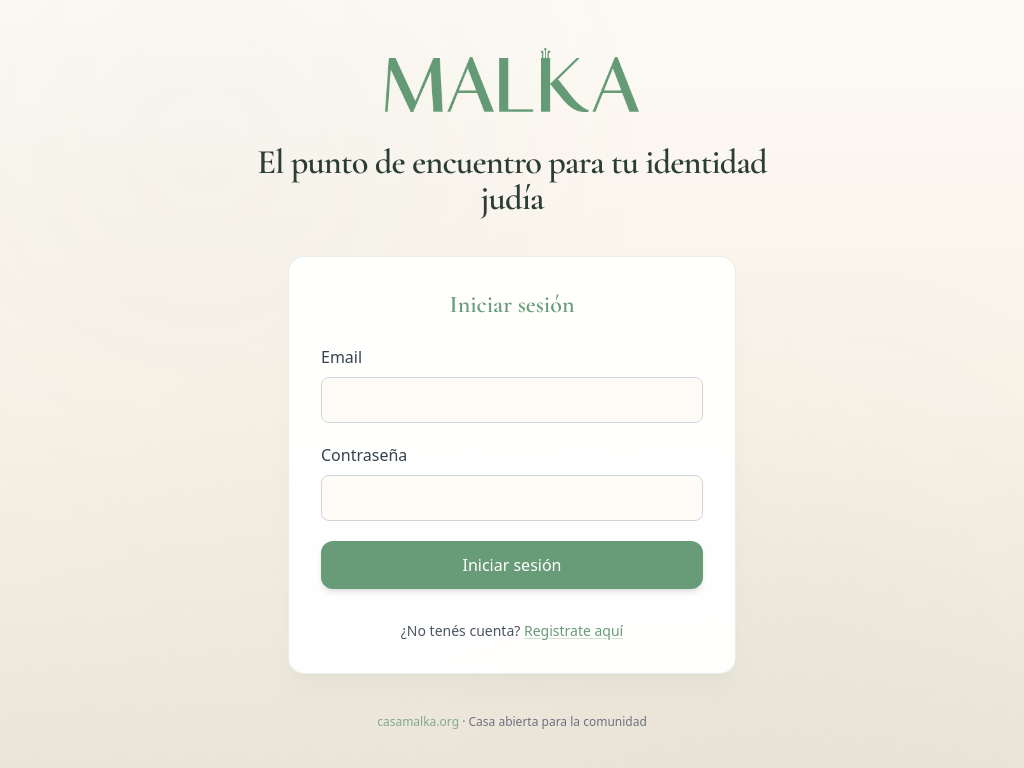
Scenario: Login › shows API error message on failure
Step 1. Type "x@y.com" into the field labelled "Email" → (512, 400), box x1=321 y1=377 x2=703 y2=423
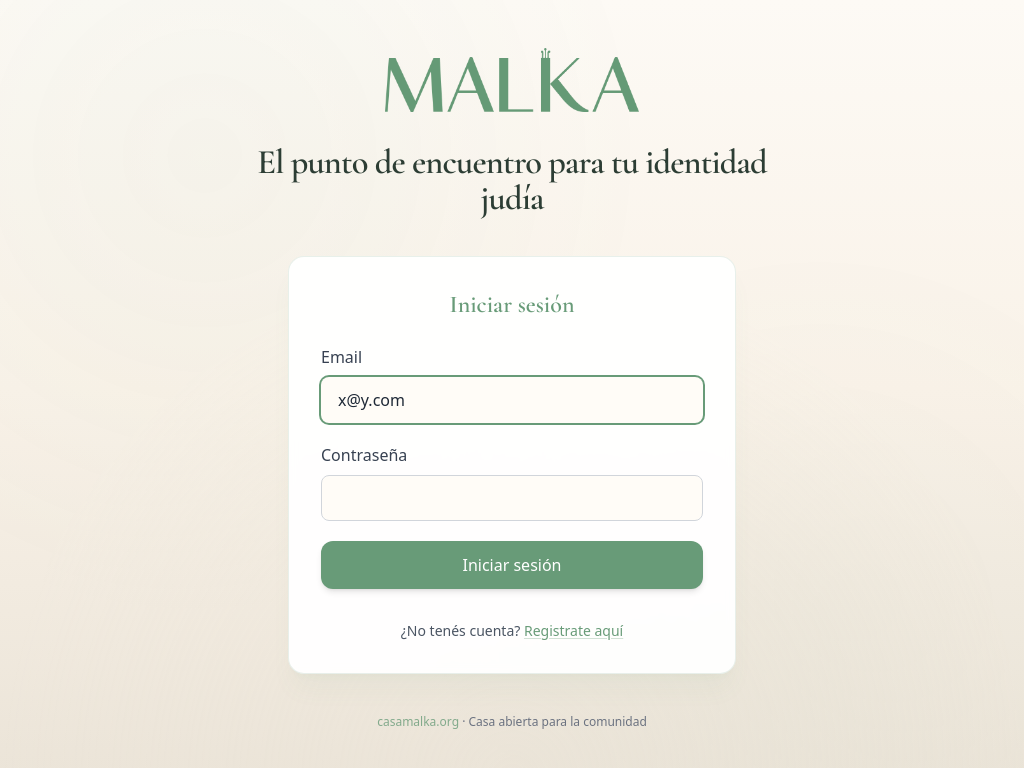
Step 2. Type "bad" into the password field labelled "Contraseña" → (512, 498), box x1=321 y1=475 x2=703 y2=521
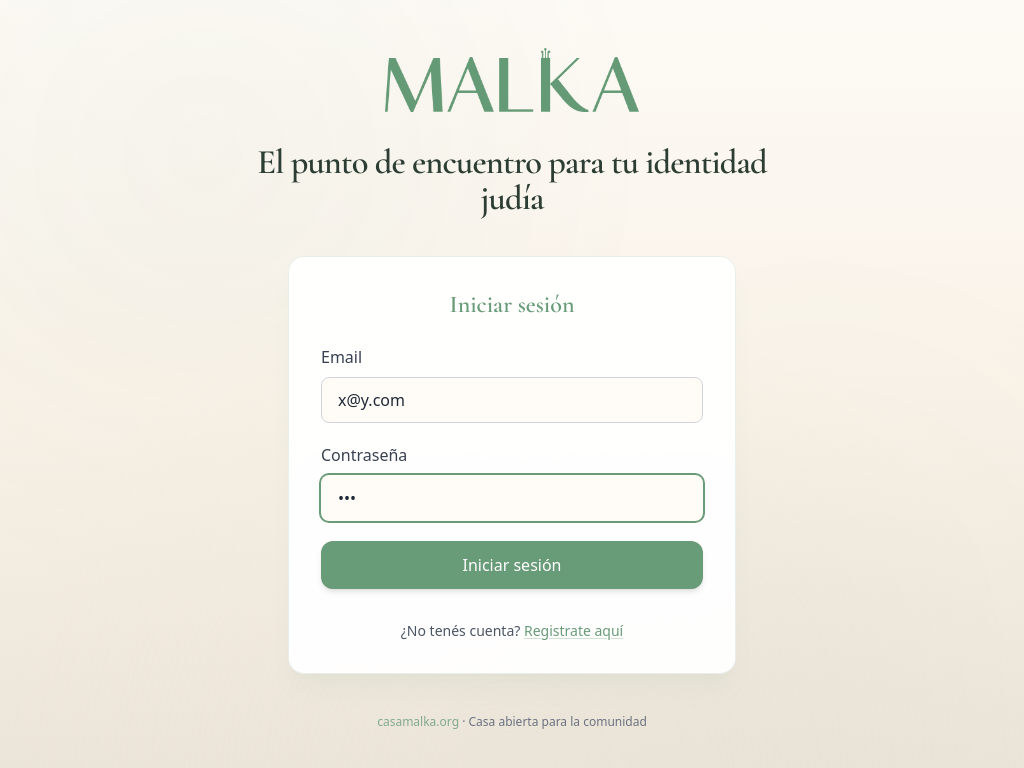
Step 3. Click the button "Iniciar sesión" → (512, 565), box x1=321 y1=541 x2=703 y2=589
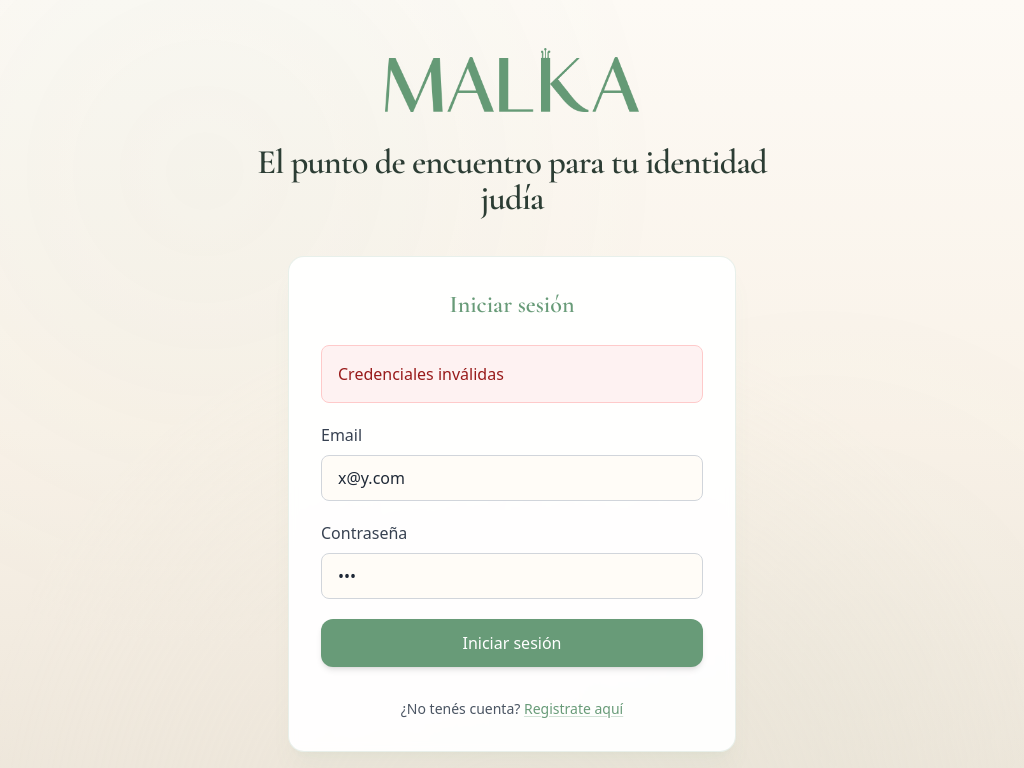
Now the text "Credenciales inválidas" is shown, box x1=321 y1=345 x2=703 y2=403
